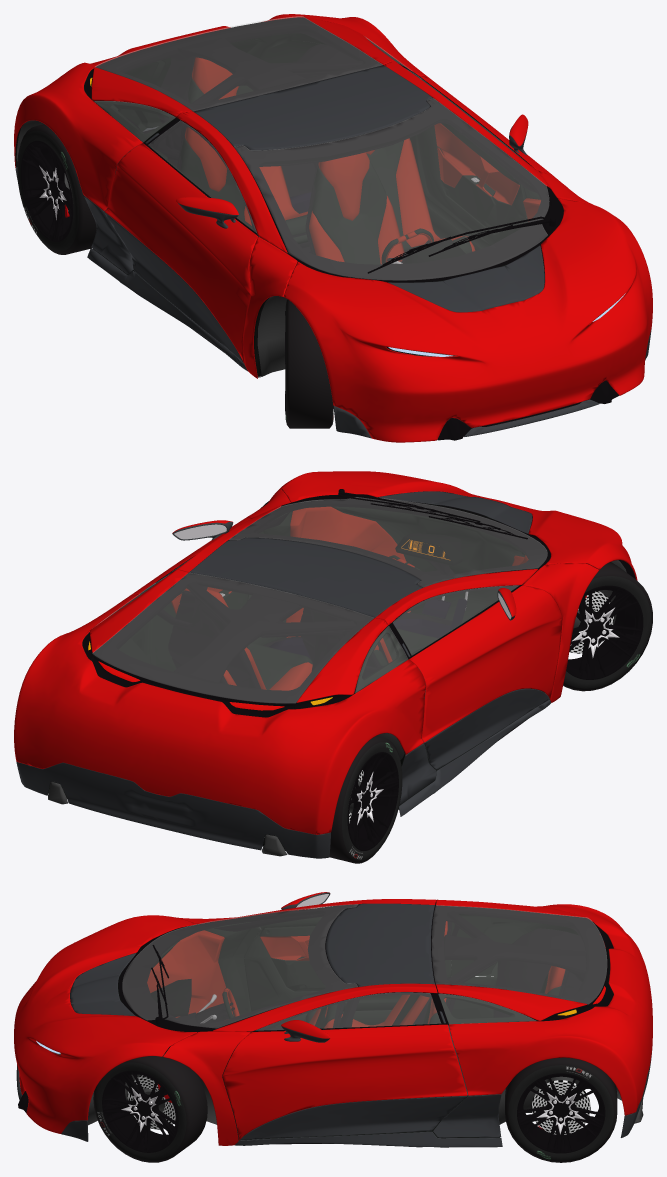
File: hero.glb
The picture shows the model from 3 angles, top to bottom: view 1: azimuth 30°, elevation 25°; view 2: azimuth 150°, elevation 25°; view 3: azimuth 270°, elevation 25°; orthographic projection. The views are drawn at different scales.
Visible parts, largest first — view 1: BodyHood, BodyWindshield, BodyRearwindow, BodyDoorRColor1, BodyRearPanelsColor1, BodyRoofPanel, BodyWindshieldGasket, InteriorSeatsColor1, InteriorSeatsColor2, BodyPillars, InteriorPillar, InteriorRearHatch (+21 smaller); view 2: BodyRearPanelsColor1, BodyRearwindow, BodyWindshield, BodyPanelsColor2, BodyDoorRColor1, BodyRoofPanel, BodyHood, InteriorRearHatch, BodyPillars, InteriorPillar, BodyWindshieldGasket, InteriorDashMid (+21 smaller); view 3: BodyRearPanelsColor1, BodyWindshield, BodyDoorLColor1, BodyHood, BodyRearwindow, BodyRoofPanel, BodyPillars, BodyWindshieldGasket, BodyDoorLColor2, BodyPanelsColor2, WheelFrontL, InteriorRearHatch (+25 smaller).
Part boxes in pixels (left/top/right/bottom): BodyHood: left=283, top=198, right=652, bottom=442; BodyWindshield: left=234, top=98, right=549, bottom=280; BodyRearwindow: left=95, top=16, right=382, bottom=110; BodyDoorRColor1: left=104, top=143, right=257, bottom=362; BodyRearPanelsColor1: left=14, top=14, right=428, bottom=210; BodyRoofPanel: left=193, top=65, right=432, bottom=150; BodyWindshieldGasket: left=234, top=99, right=563, bottom=282; InteriorSeatsColor1: left=185, top=57, right=475, bottom=264; InteriorSeatsColor2: left=180, top=78, right=472, bottom=264; BodyPillars: left=176, top=61, right=598, bottom=378; InteriorPillar: left=158, top=37, right=434, bottom=168; InteriorRearHatch: left=93, top=17, right=383, bottom=117; BodyRearPanelsColor1: left=14, top=569, right=425, bottom=834; BodyRearwindow: left=92, top=573, right=373, bottom=703; BodyWindshield: left=229, top=497, right=547, bottom=587; BodyPanelsColor2: left=16, top=700, right=550, bottom=858; BodyDoorRColor1: left=409, top=585, right=562, bottom=742; BodyRoofPanel: left=189, top=537, right=422, bottom=617; BodyHood: left=279, top=471, right=637, bottom=580; InteriorRearHatch: left=93, top=573, right=386, bottom=707; BodyPillars: left=175, top=489, right=599, bottom=702; InteriorPillar: left=174, top=574, right=417, bottom=682; BodyWindshieldGasket: left=230, top=497, right=550, bottom=587; InteriorDashMid: left=331, top=503, right=528, bottom=622; BodyRearPanelsColor1: left=436, top=899, right=652, bottom=1115; BodyWindshield: left=122, top=904, right=357, bottom=1028; BodyDoorLColor1: left=222, top=1024, right=467, bottom=1139; BodyHood: left=14, top=915, right=196, bottom=1133; BodyRearwindow: left=432, top=905, right=606, bottom=1003; BodyRoofPanel: left=326, top=903, right=434, bottom=986; BodyPillars: left=163, top=899, right=437, bottom=1145; BodyWindshieldGasket: left=118, top=905, right=357, bottom=1032; BodyDoorLColor2: left=240, top=1096, right=467, bottom=1140; BodyPanelsColor2: left=16, top=1050, right=652, bottom=1147; WheelFrontL: left=93, top=1054, right=207, bottom=1162; InteriorRearHatch: left=431, top=905, right=606, bottom=1020.
Bounding box in the file's own units: 2.54 × 1.15 × 4.36.
Materials: 22 (17 with a texture image).
